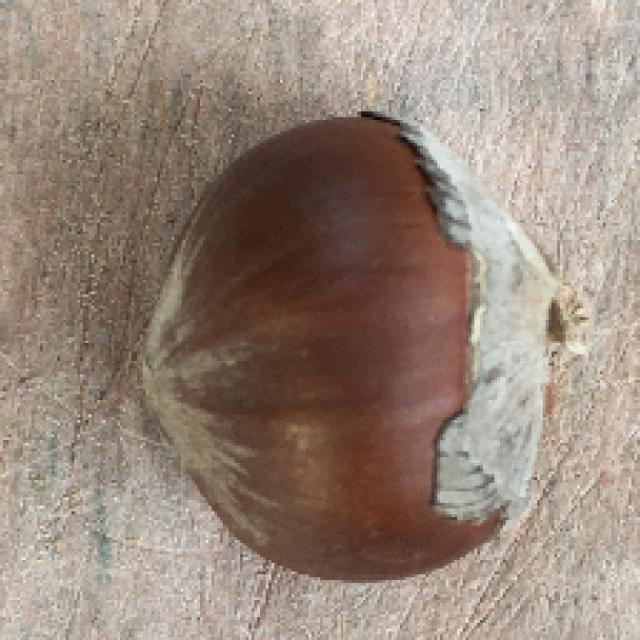damagedHazelnut: (136, 106, 586, 582)
